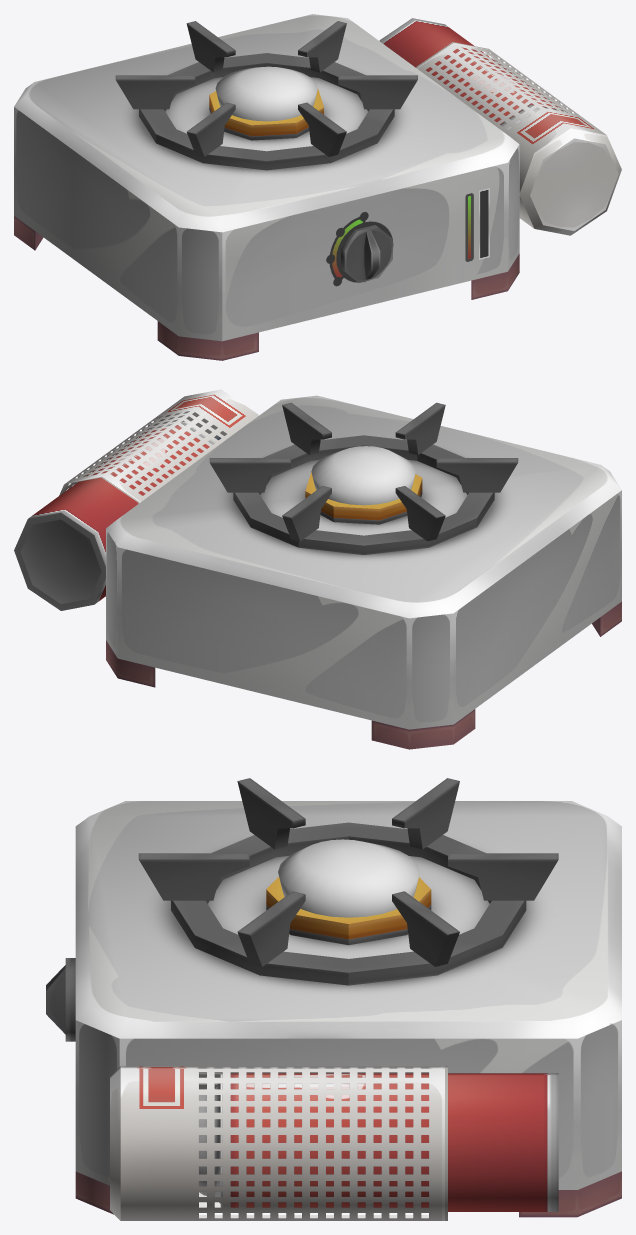
File: mesh_Prop_PortableStove1__Butane.fbx
3 views of the same model, one above another, from view 1: azimuth 30°, elevation 25°; view 2: azimuth 150°, elevation 25°; view 3: azimuth 270°, elevation 25° (orthographic). The views are drawn at different scales.
Parts seen in each view (by area): view 1: PortableStove1_Butane, PortableStove1_fire, PortableStove1_ButaneGas, PortableStove1_Valve; view 2: PortableStove1_Butane, PortableStove1_ButaneGas, PortableStove1_fire; view 3: PortableStove1_Butane, PortableStove1_ButaneGas, PortableStove1_fire, PortableStove1_Valve.
Boxes of the visible parts, <box> form: PortableStove1_Butane: <box>14,14,621,360</box>; PortableStove1_fire: <box>215,66,317,121</box>; PortableStove1_ButaneGas: <box>379,18,563,130</box>; PortableStove1_Valve: <box>341,225,392,282</box>; PortableStove1_Butane: <box>59,389,621,749</box>; PortableStove1_ButaneGas: <box>14,422,221,610</box>; PortableStove1_fire: <box>311,446,415,505</box>; PortableStove1_Butane: <box>75,778,621,1220</box>; PortableStove1_ButaneGas: <box>199,1073,558,1211</box>; PortableStove1_fire: <box>278,839,419,917</box>; PortableStove1_Valve: <box>46,958,75,1041</box>.
Size of the model in its own units: 42.94 by 16.79 by 36.71.
